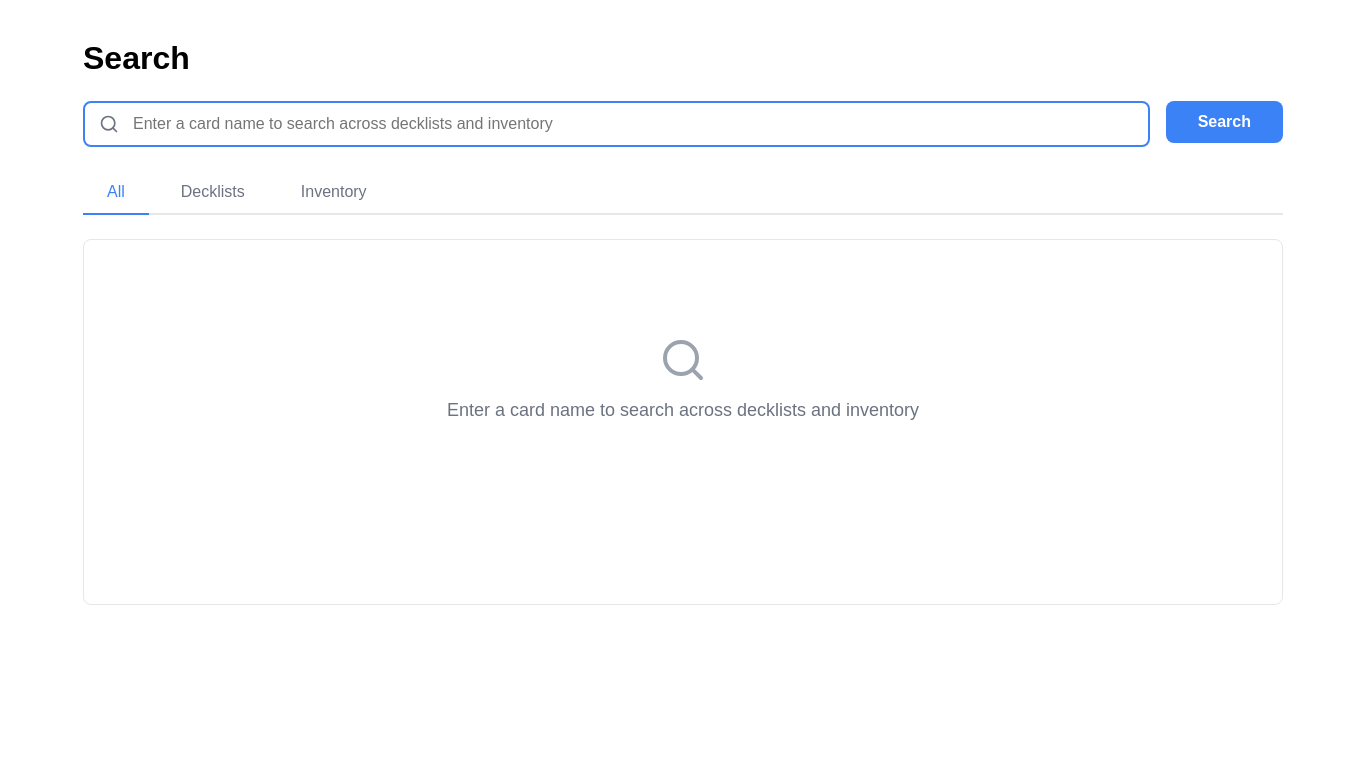
Test: Search Validation › should show validation error for empty search query
The image size is (1366, 768).
Step 1. Click the button "Search" → (1224, 122), box [1166, 101, 1283, 143]
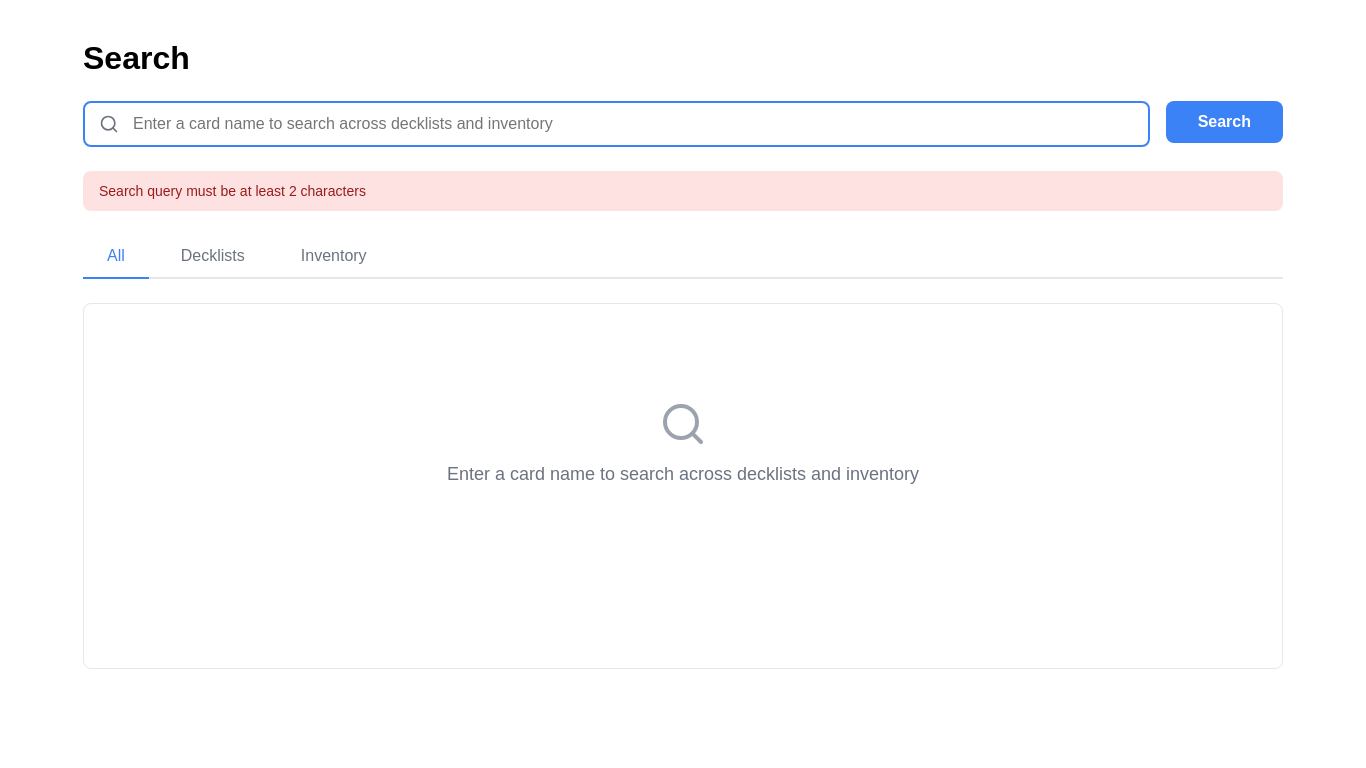
Expected: the text "Search query must be at least 2 characters" is shown, [83, 171, 1283, 211]
